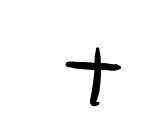plus: (64, 46, 121, 106)
